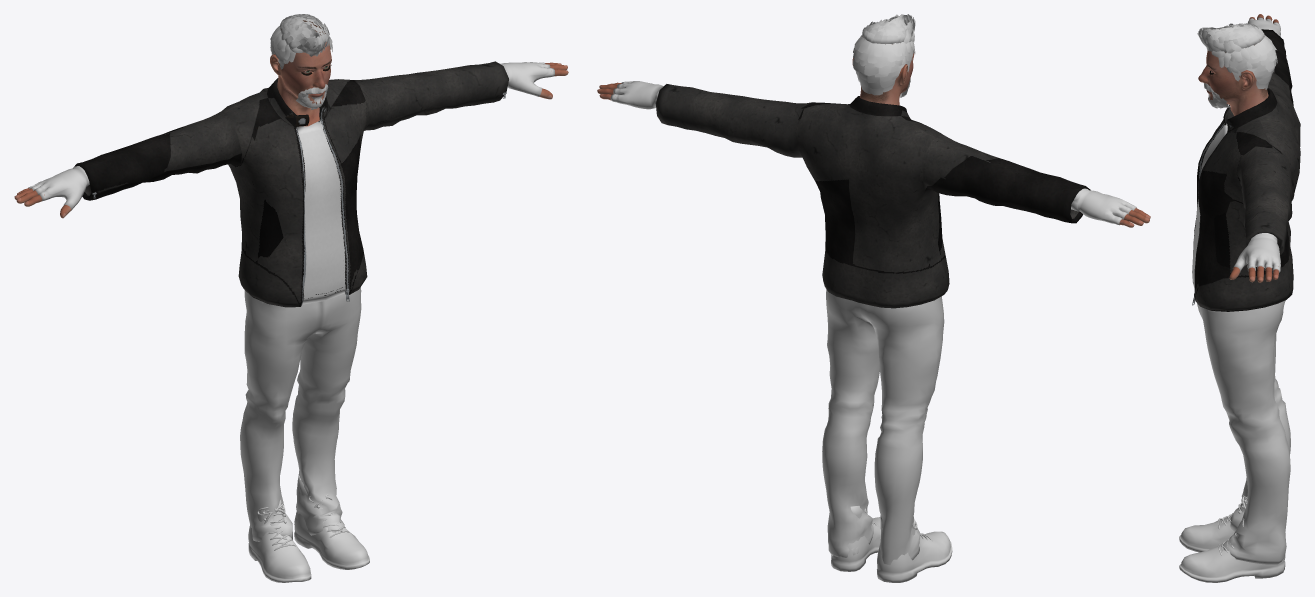
3 views of the same model, side by side, from view 1: azimuth 30°, elevation 25°; view 2: azimuth 150°, elevation 25°; view 3: azimuth 270°, elevation 25° (orthographic).
Parts seen in each view (by area): view 1: Tops, Bottoms, Shoes, Body, Gloves, Hair; view 2: Tops, Bottoms, Hair, Shoes, Gloves, Body; view 3: Tops, Bottoms, Shoes, Hair, Body, Gloves.
Boxes of the visible parts, box(x1,y1,x2,y2) form: Tops: box(74, 61, 508, 307); Bottoms: box(240, 287, 361, 541); Shoes: box(248, 475, 369, 582); Body: box(14, 19, 568, 218); Gloves: box(28, 62, 554, 210); Hair: box(270, 14, 332, 69); Tops: box(655, 84, 1090, 308); Bottoms: box(822, 289, 944, 565); Hair: box(853, 14, 915, 95); Shoes: box(831, 506, 952, 582); Gloves: box(610, 81, 1136, 225); Body: box(597, 36, 1150, 227); Tops: box(1192, 29, 1300, 311); Bottoms: box(1197, 300, 1290, 564); Shoes: box(1179, 495, 1285, 582); Hair: box(1197, 23, 1277, 89); Body: box(1198, 14, 1278, 282); Gloves: box(1233, 17, 1280, 272).
Bounding box in the file's own units: 194 × 182 × 37.4.
